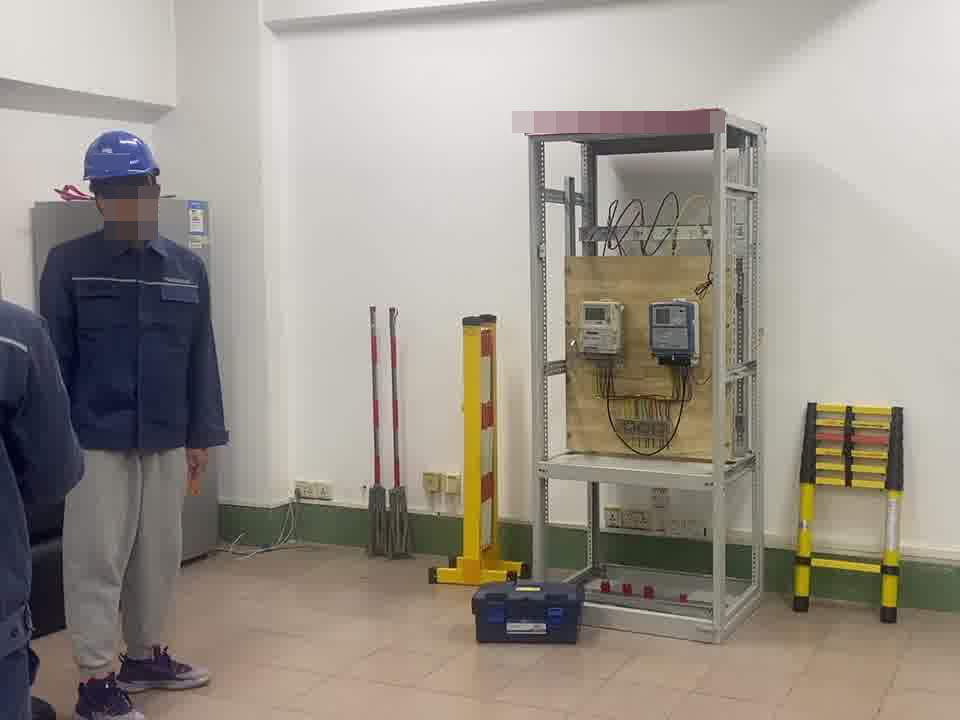downcloth: (62, 445, 194, 664)
halt: (82, 127, 166, 240)
hand: (187, 445, 210, 484)
inear: (145, 174, 162, 225)
person: (32, 126, 233, 720), (1, 296, 78, 720)
upsuit: (39, 227, 232, 457), (1, 295, 83, 668)
